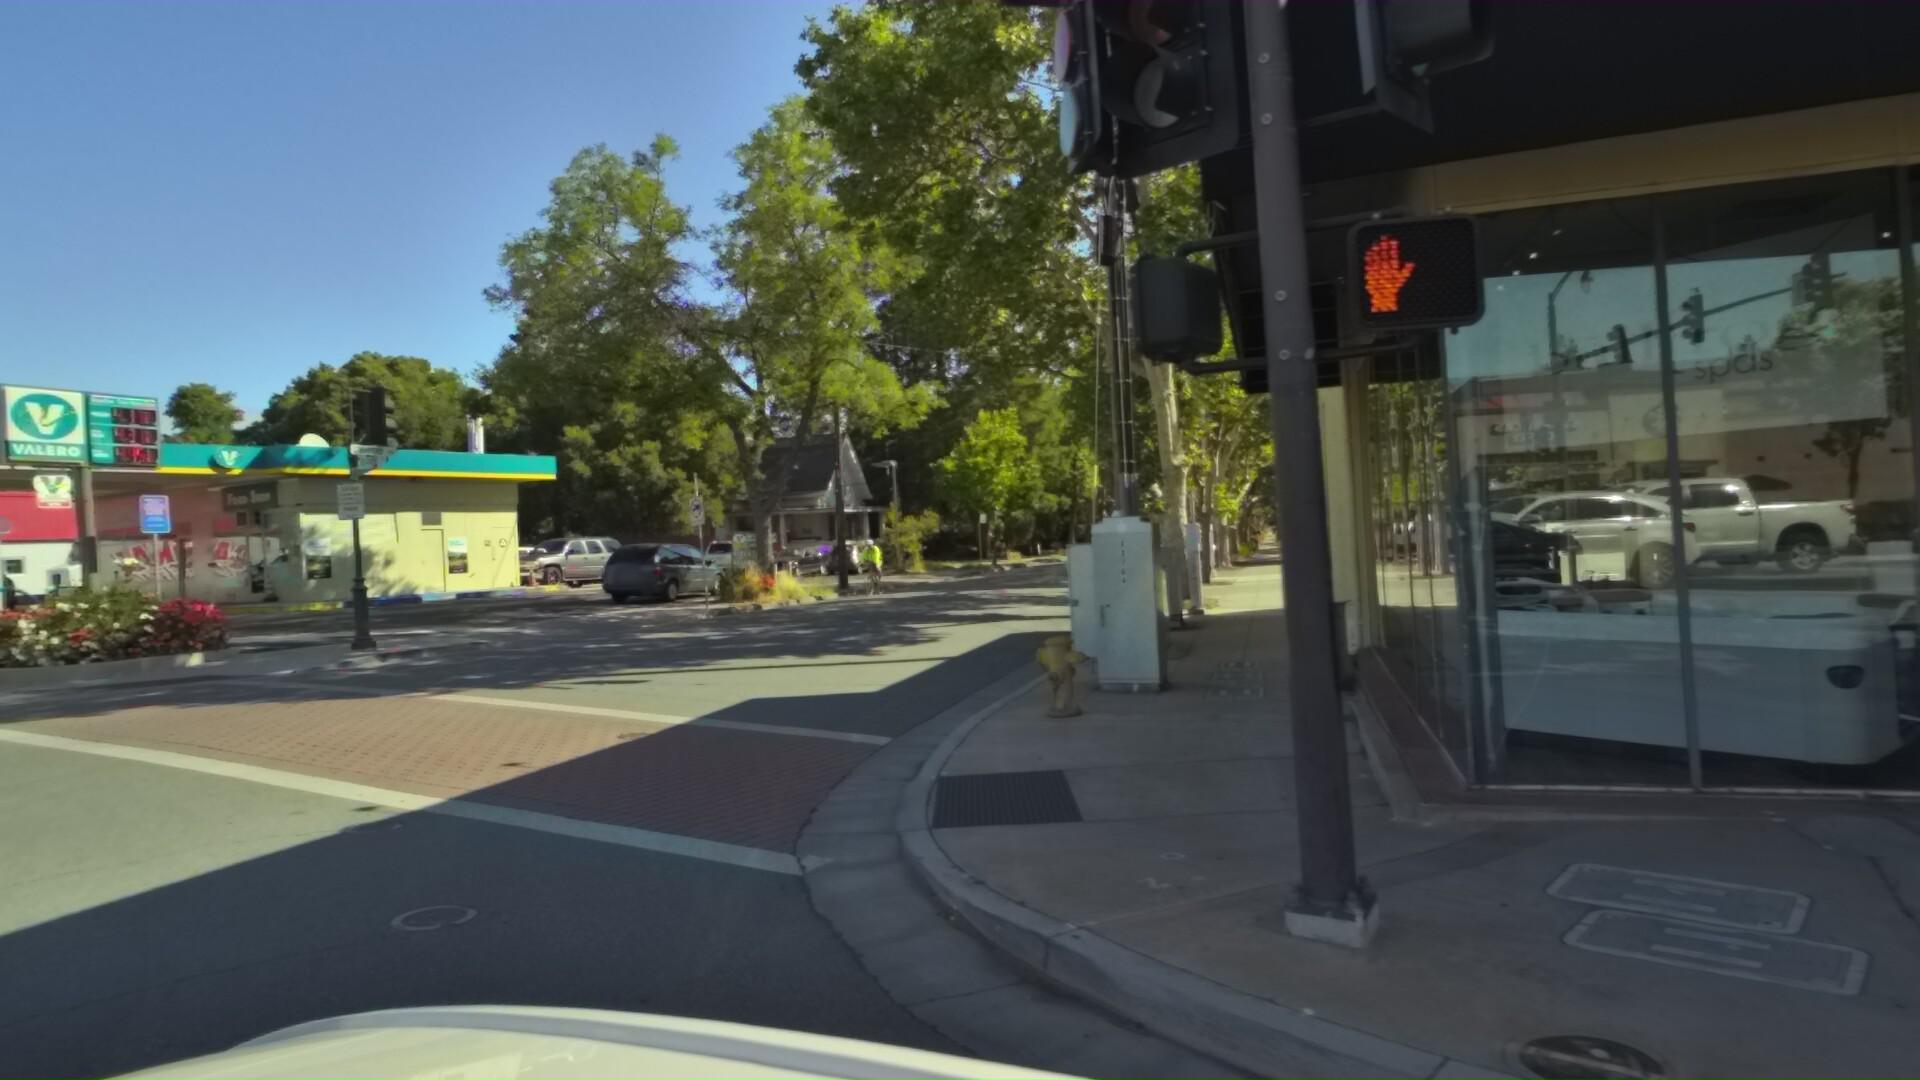bicycle: (852, 527, 897, 592)
car: (593, 526, 742, 604), (495, 525, 637, 587), (447, 531, 580, 588), (702, 529, 781, 574), (757, 535, 833, 571), (1170, 514, 1221, 560), (823, 531, 886, 568), (0, 549, 28, 615), (1098, 529, 1129, 549)
truck: (30, 510, 293, 599)
